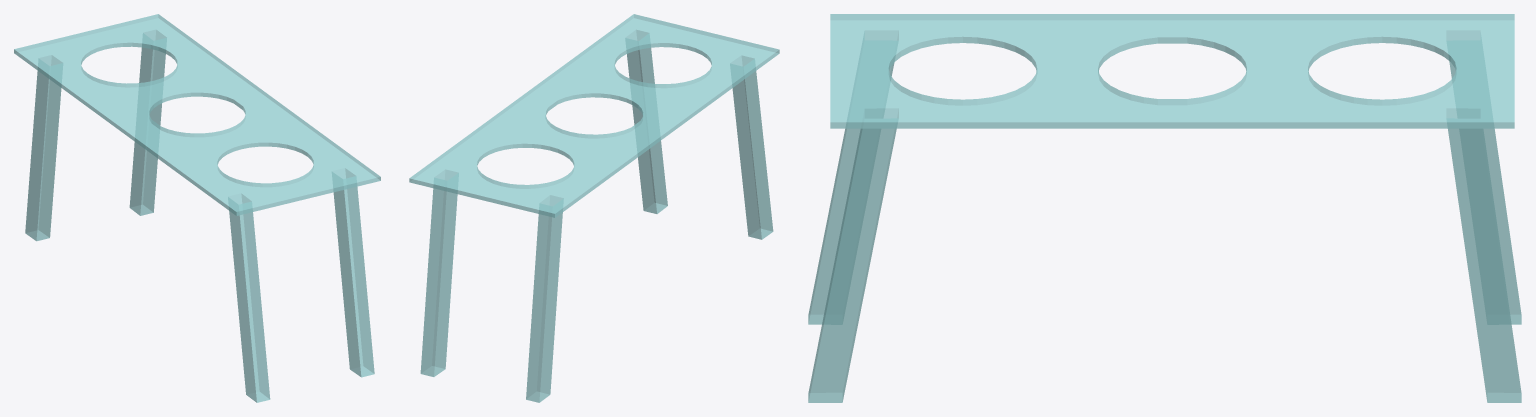
Rendered from tray.fbx.
The picture shows the model from 3 angles, left to right: view 1: azimuth 30°, elevation 25°; view 2: azimuth 150°, elevation 25°; view 3: azimuth 270°, elevation 25°; orthographic projection. The views are drawn at different scales.
Parts seen in each view (by area): view 1: Cube; view 2: Cube; view 3: Cube.
Boxes of the visible parts, x1=… form: Cube: x1=14, y1=14, x2=380, y2=402; Cube: x1=409, y1=14, x2=779, y2=402; Cube: x1=808, y1=14, x2=1521, y2=402.
Bounding box in the file's own units: 30 × 37.51 × 83.41.
